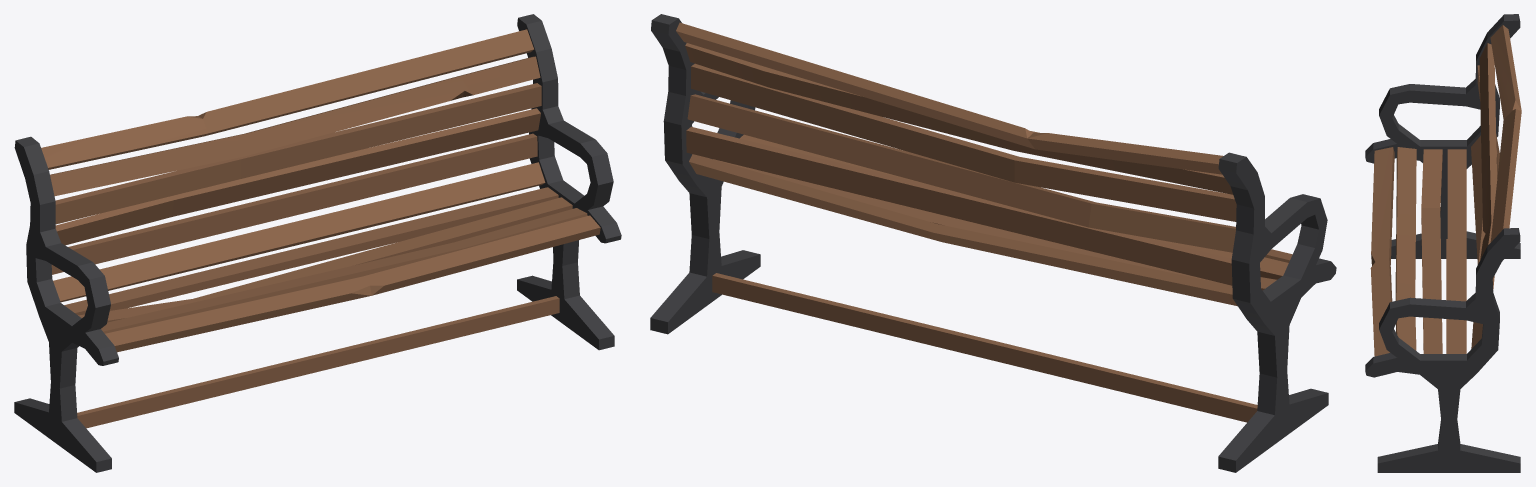
Rendered from SM_Prop_ParkBench_01.obj.
3 views of the same model, side by side, from view 1: azimuth 30°, elevation 25°; view 2: azimuth 150°, elevation 25°; view 3: azimuth 270°, elevation 25° (orthographic). The views are drawn at different scales.
Visible parts, largest first — view 1: SM_Prop_ParkBench_01_0; view 2: SM_Prop_ParkBench_01_0; view 3: SM_Prop_ParkBench_01_0.
Part boxes in pixels (box(x1,y1,x2,y2)): SM_Prop_ParkBench_01_0: box(14, 14, 621, 472); SM_Prop_ParkBench_01_0: box(650, 14, 1336, 472); SM_Prop_ParkBench_01_0: box(1365, 14, 1521, 472).
Size of the model in its own units: 2.08 by 1.05 by 0.6236.
1 material, 1 textured.
